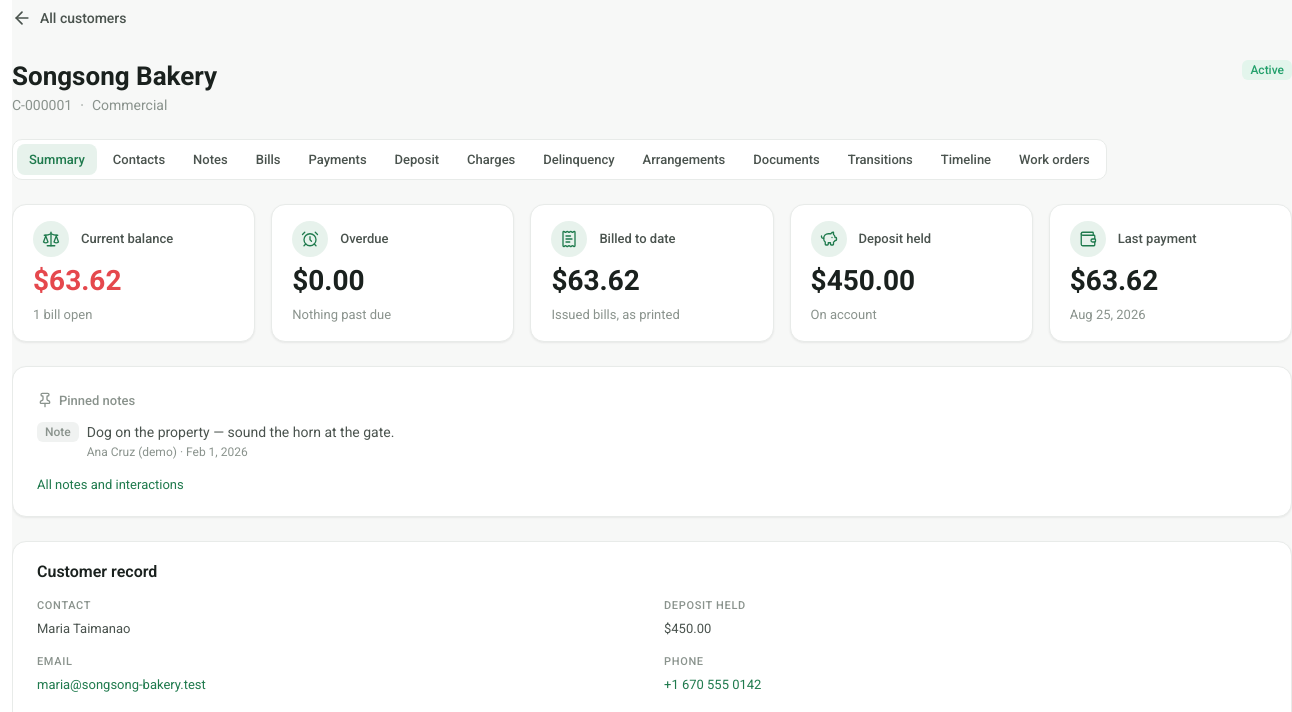
Test: CustomerDetailPage › merges accounts, bills and payments into one timeline table
Expected: the heading "Songsong Bakery" is shown, [12,60,217,92]
Click the link "Timeline": coordinates (966, 159) [941,152,991,166]
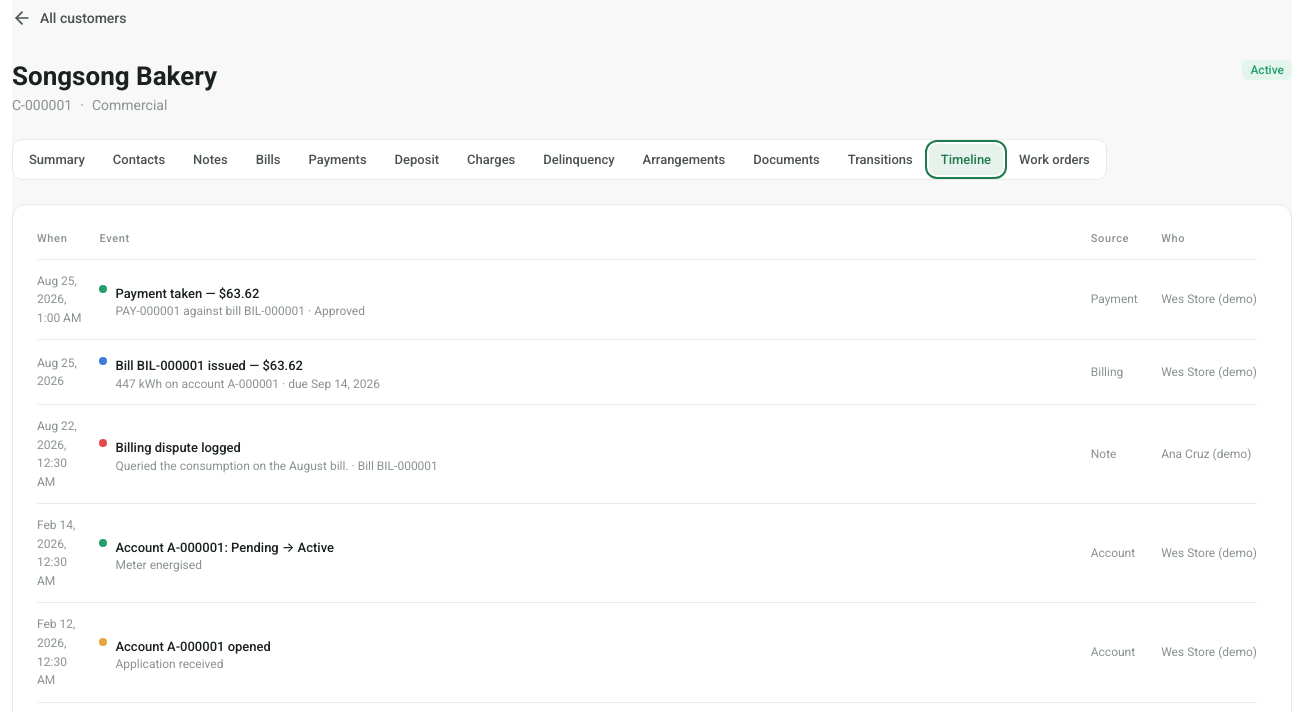
Expected: the text "Billing" is shown, [1091,365,1123,379]
Expected: the text "Payment" is shown, [1091,292,1138,306]
